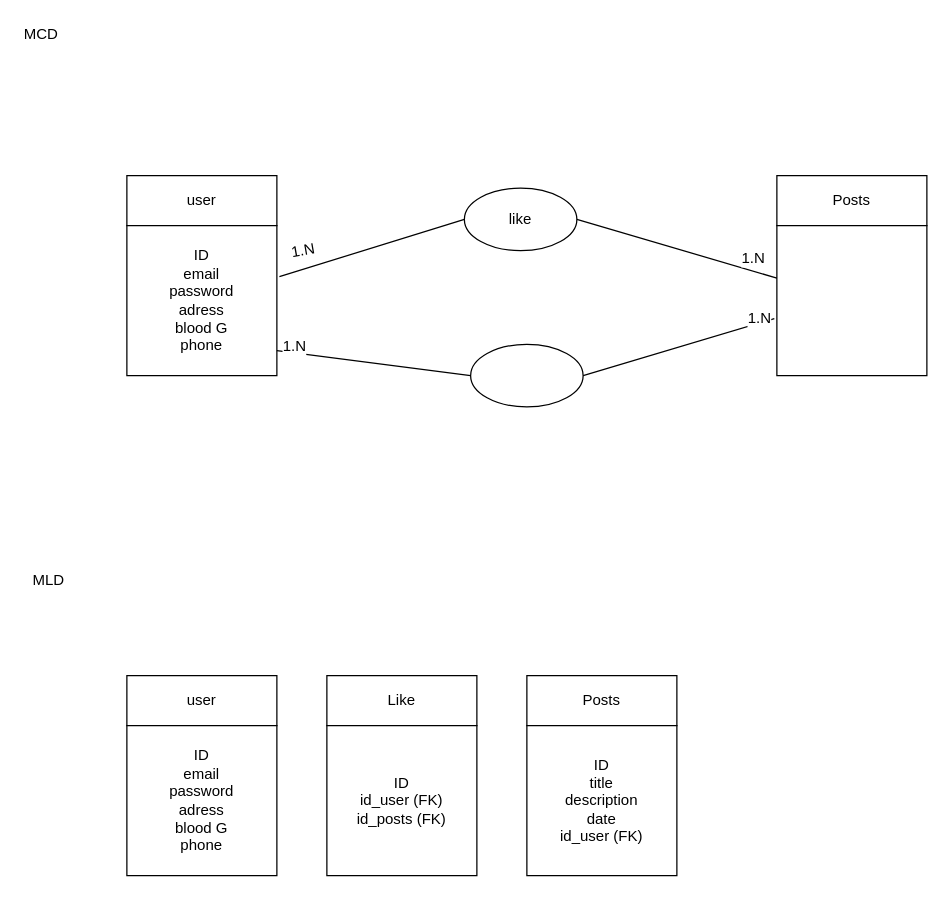
The diagram is 949 pixels wide and 898 high, and some of its shapes have lost their labels. Here are the shapes that lost their labels. From the top down, the centre of each, then its label:
(x=851, y=300): ID title description date
(x=526, y=375): Publier
